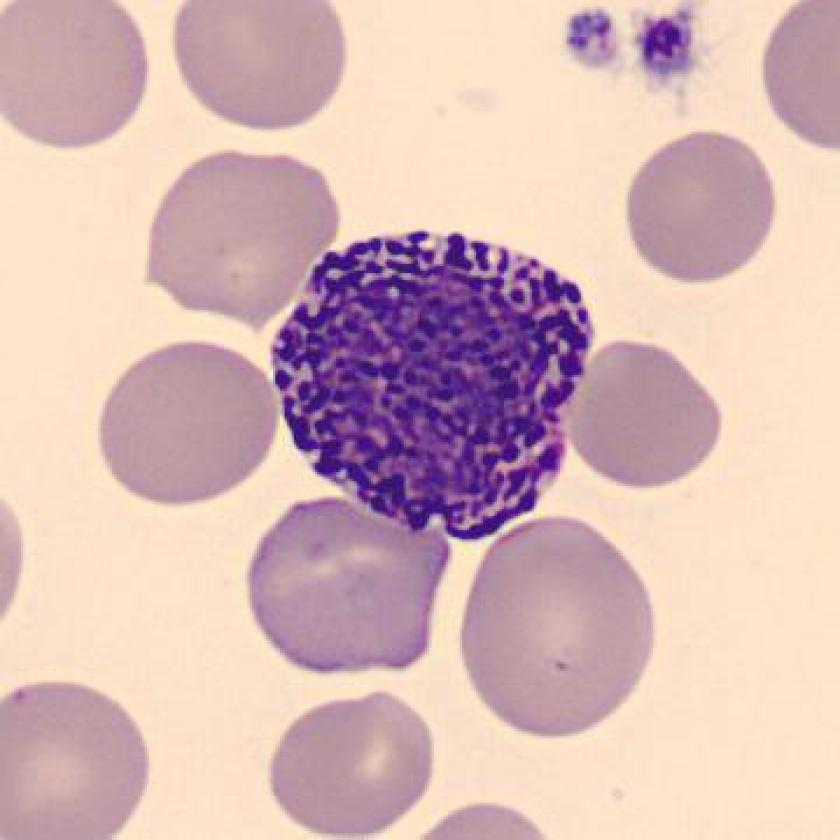basophil: (267, 219, 608, 552)
